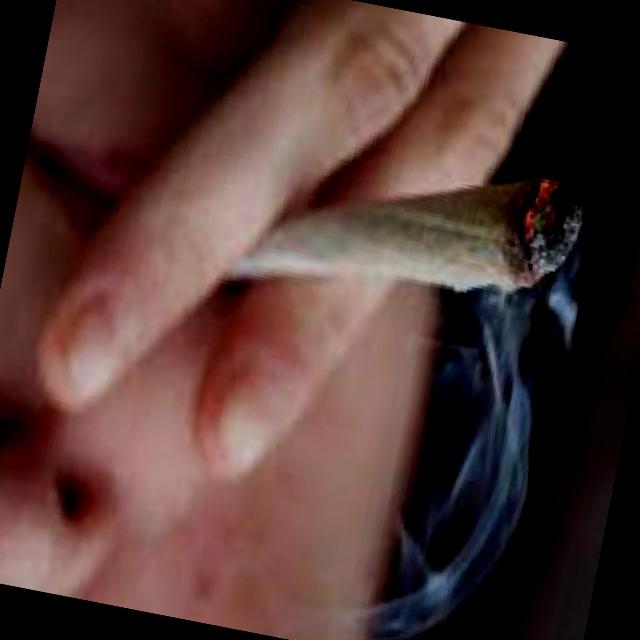cigarette: (226, 113, 594, 350)
